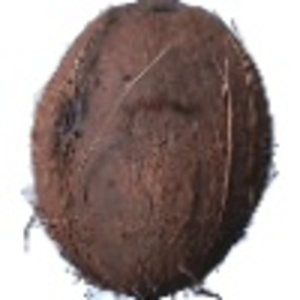coco: (21, 1, 278, 300)
